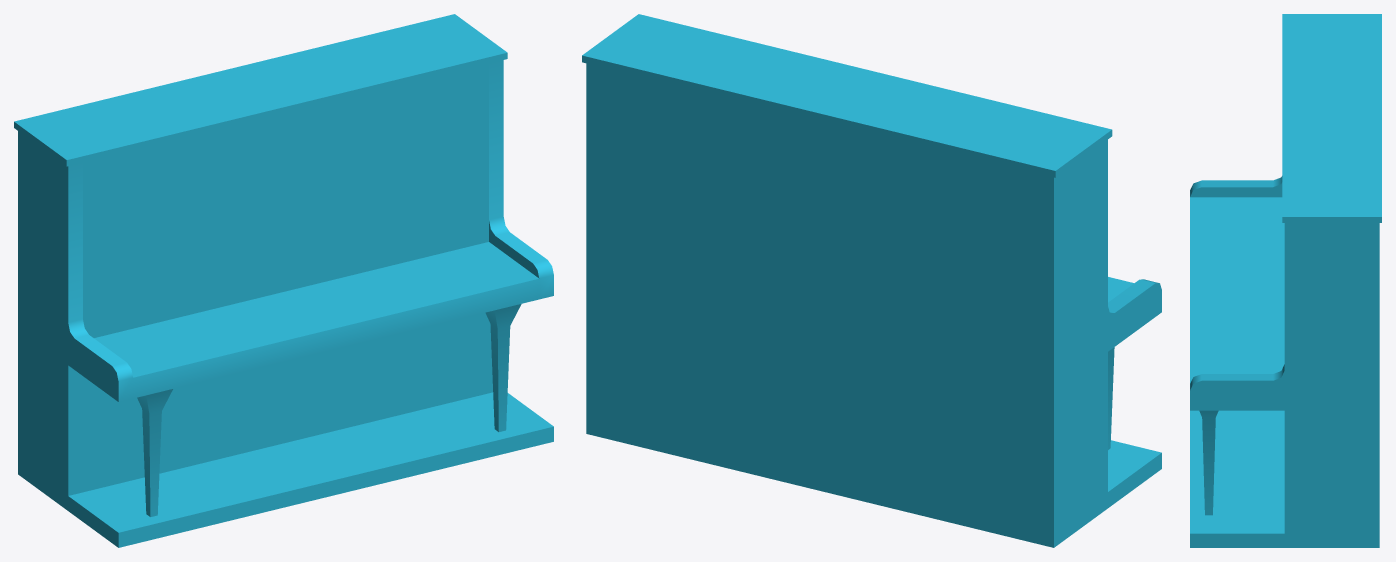
File: Piano.fbx
3 renders of one model, left to right at view 1: azimuth 30°, elevation 25°; view 2: azimuth 150°, elevation 25°; view 3: azimuth 270°, elevation 25°, orthographic. The views are drawn at different scales.
Parts seen in each view (by area): view 1: Piano; view 2: Piano; view 3: Piano.
Boxes of the visible parts, x1,y1,x2,y2 form: Piano: (14, 14, 553, 547); Piano: (582, 14, 1161, 547); Piano: (1190, 14, 1381, 547).
Size of the model in its own units: 152 by 116 by 60.75.
